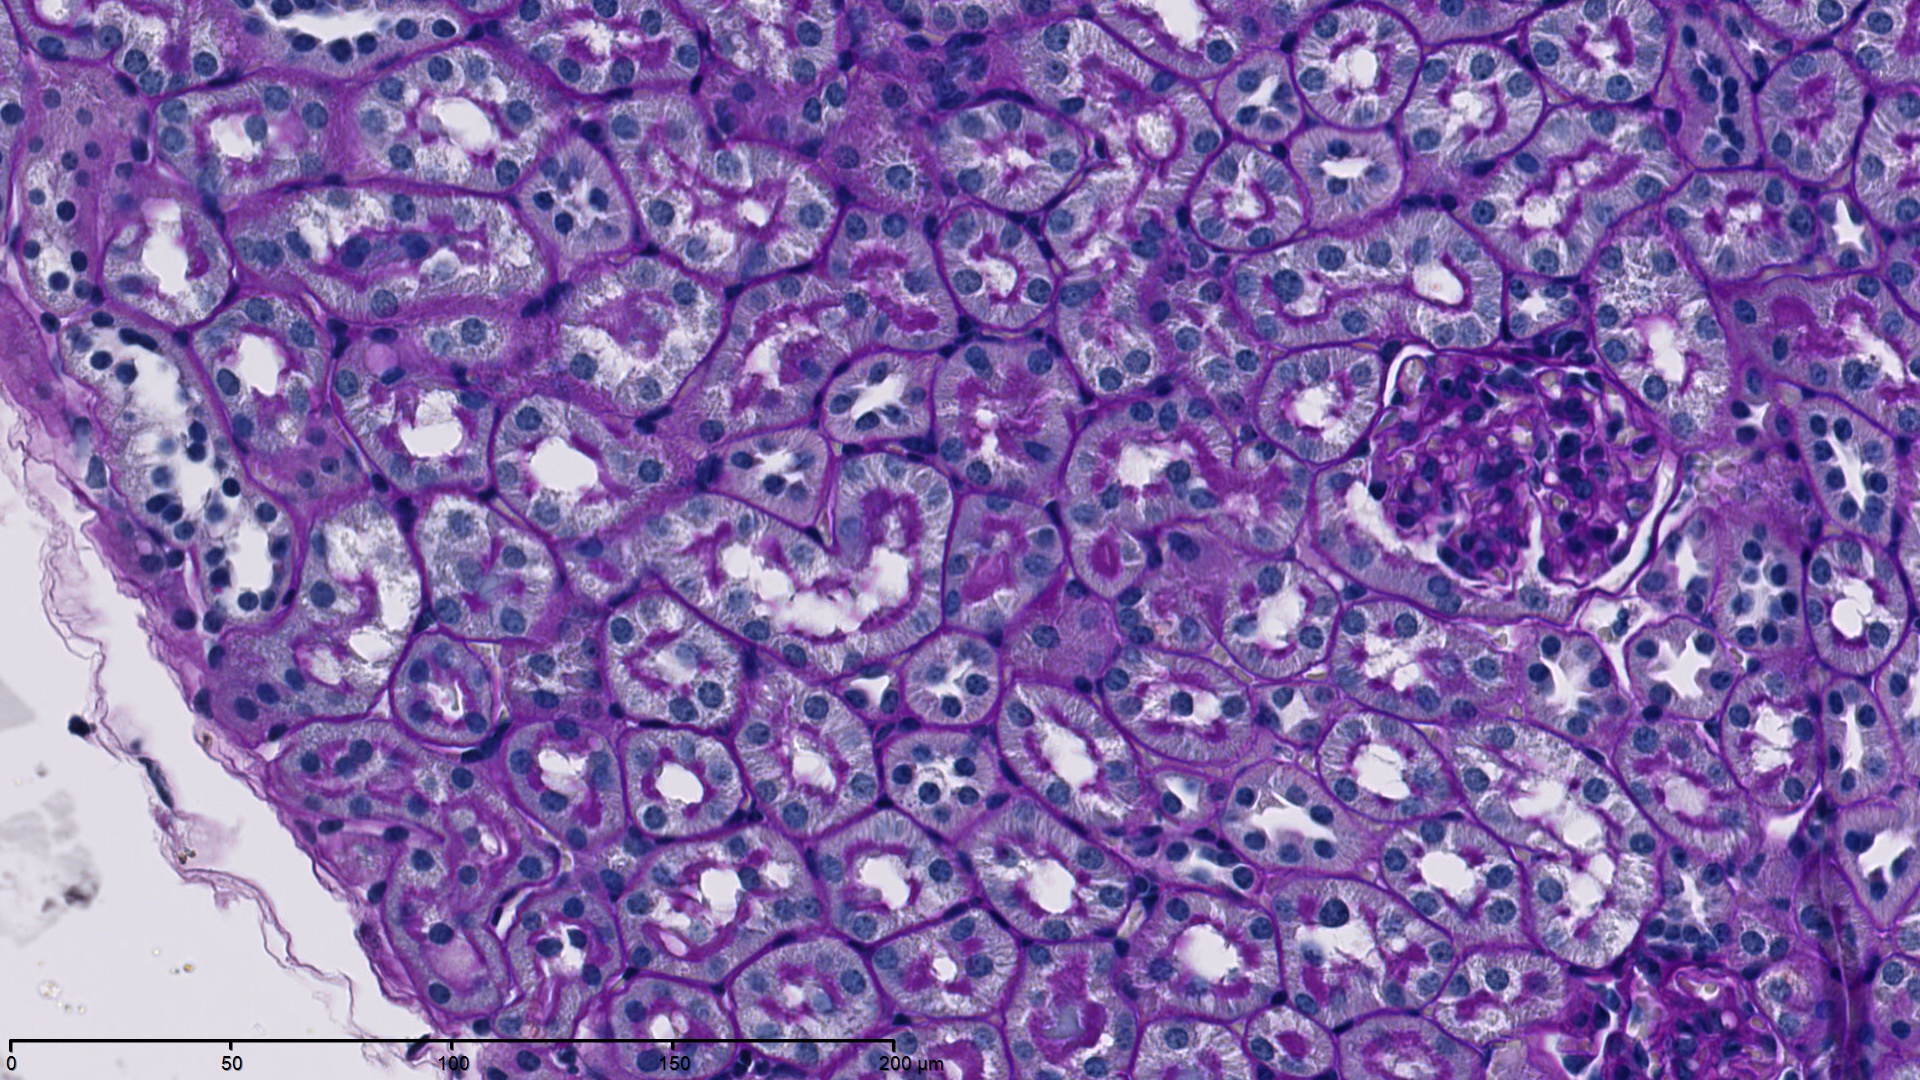Glomeruli: (1360, 323, 1696, 595)
